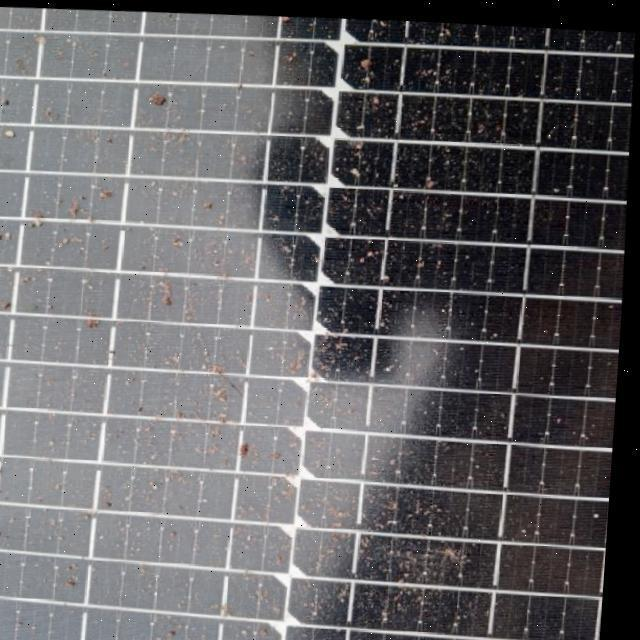Surface Contaminant: (0, 11, 634, 640)
